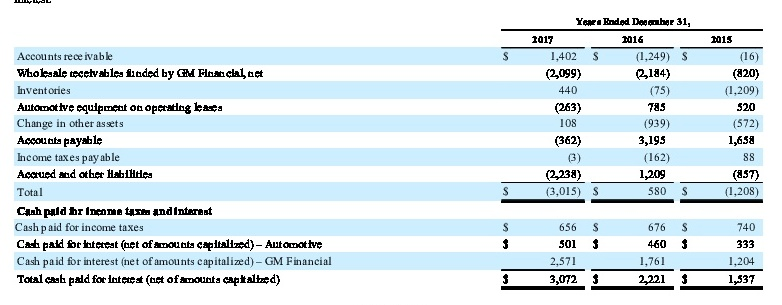table: (0, 0, 782, 305)
